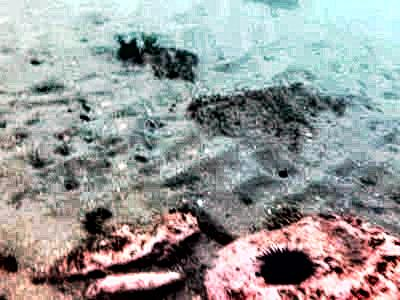urchin: (258, 243, 311, 285)
